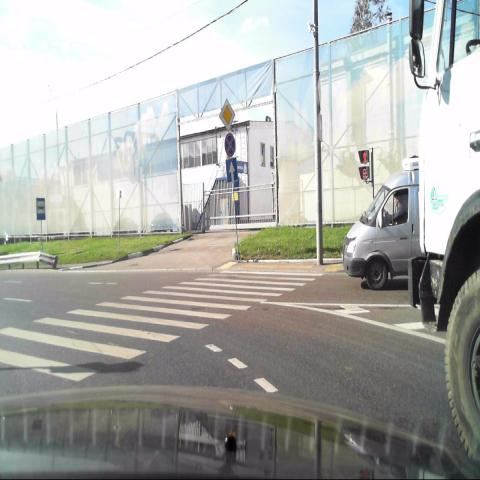5_5: (225, 158, 238, 185)
